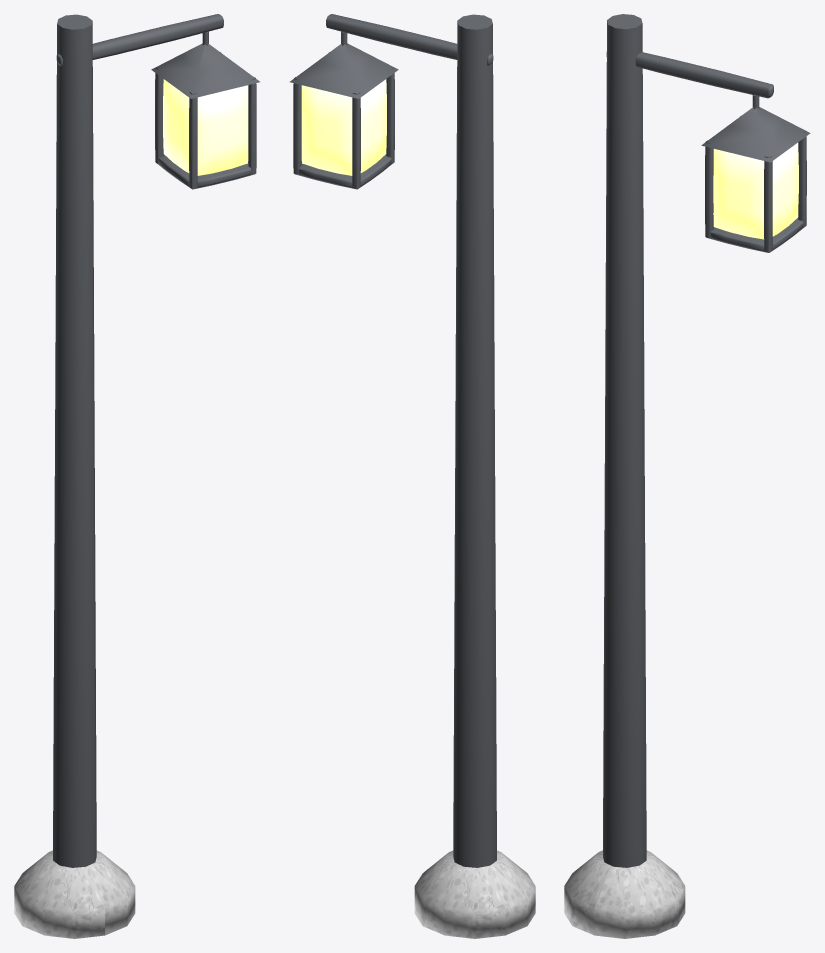
Rendered from prop_lamp_post.glb.
3 renders of one model, left to right at view 1: azimuth 30°, elevation 25°; view 2: azimuth 150°, elevation 25°; view 3: azimuth 330°, elevation 25°, orthographic.
Visible parts, largest first — view 1: prop_lamp_post_iron, prop_lamp_post; view 2: prop_lamp_post_iron, prop_lamp_post; view 3: prop_lamp_post_iron, prop_lamp_post.
Boxes of the visible parts, x1,y1,x2,y2 form: prop_lamp_post_iron: (53, 14, 259, 867); prop_lamp_post: (14, 79, 248, 938); prop_lamp_post_iron: (290, 14, 496, 867); prop_lamp_post: (301, 79, 535, 938); prop_lamp_post_iron: (603, 14, 810, 867); prop_lamp_post: (564, 143, 798, 938).
Bounding box in the file's own units: 0.6661 × 2.6 × 0.32.
3 materials, 1 textured.
